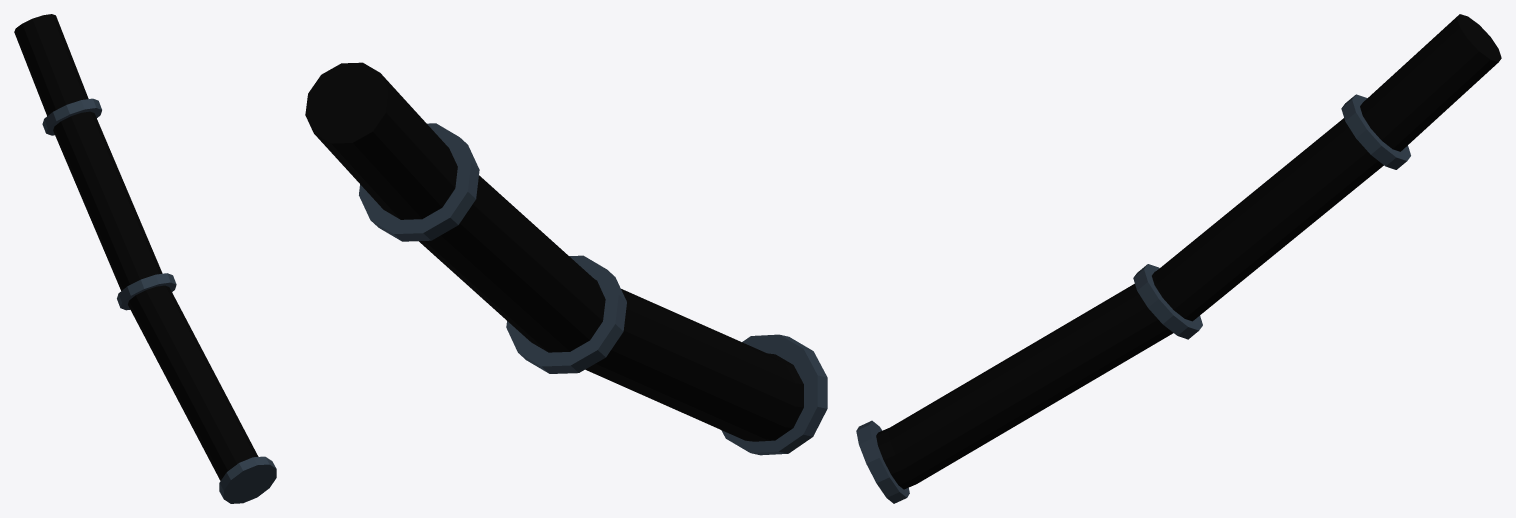
The model's file is Roof_Object6_JP_Tiles.fbx.
3 renders of one model, left to right at view 1: azimuth 30°, elevation 25°; view 2: azimuth 150°, elevation 25°; view 3: azimuth 270°, elevation 25°, orthographic. The views are drawn at different scales.
Parts seen in each view (by area): view 1: Roof_Object6_JP_Tiles_LOD0; view 2: Roof_Object6_JP_Tiles_LOD0; view 3: Roof_Object6_JP_Tiles_LOD0.
Part boxes in pixels (<box>): Roof_Object6_JP_Tiles_LOD0: <box>14,14,276,503</box>; Roof_Object6_JP_Tiles_LOD0: <box>305,62,827,455</box>; Roof_Object6_JP_Tiles_LOD0: <box>856,14,1501,503</box>.
Size of what is drawn, in the model's own units: 84.18 by 515 by 627.
